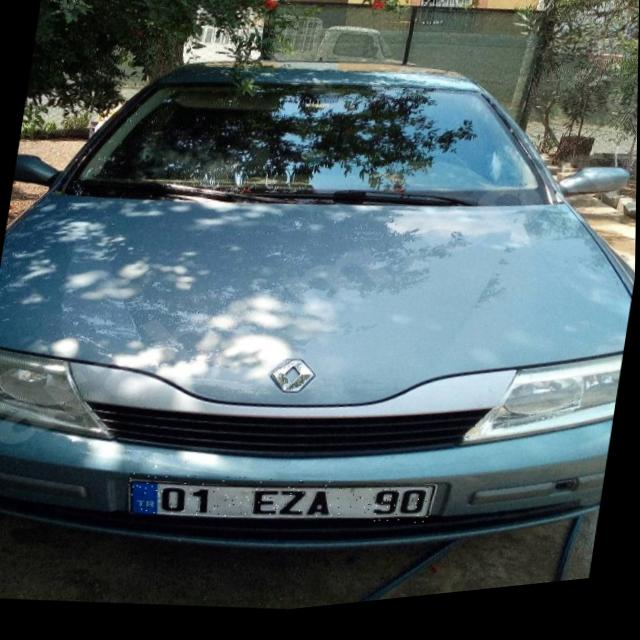license_plate: (125, 451, 438, 558)
